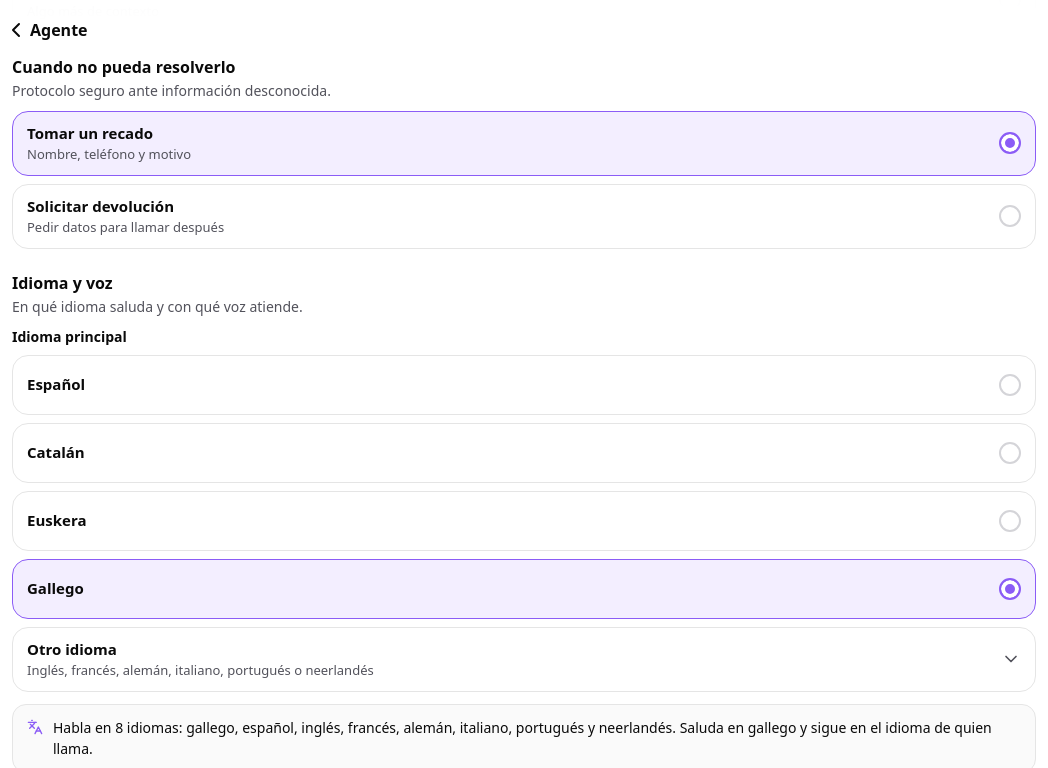
Test: ComportamientoMovil — idioma y voz › cambiar de lengua local ya no avisa del plan, tampoco en Inicio
(page scrolled)
Click the radio button labelled "Español" at (56, 384), box [12,355,1036,415]
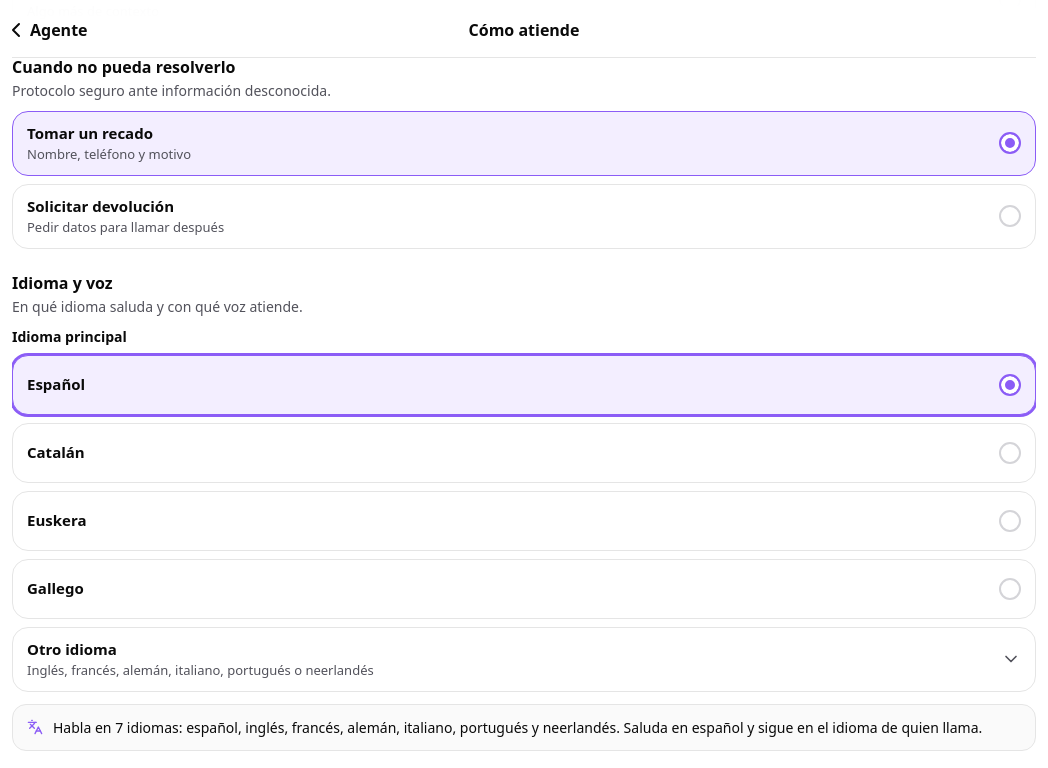
Expected: the text "Habla en 7 idiomas: español, inglés, francés, alemán, italiano, portugués y neerlandés. Saluda en español y sigue en el " is shown, [53,718,982,737]
